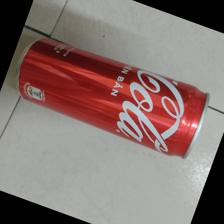Coca: (16, 37, 209, 160)
